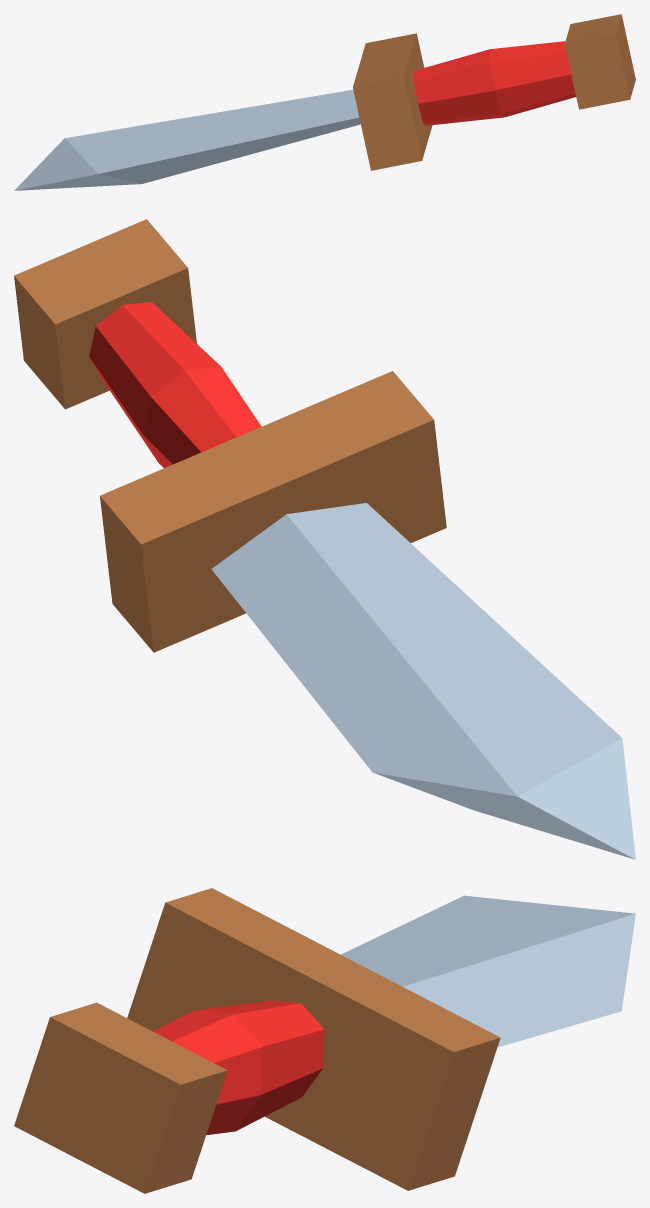
3 renders of one model, top to bottom at view 1: azimuth 30°, elevation 25°; view 2: azimuth 150°, elevation 25°; view 3: azimuth 270°, elevation 25°, orthographic. The views are drawn at different scales.
Visible parts, largest first — view 1: DJ_02; view 2: DJ_02; view 3: DJ_02.
Part boxes in pixels (bbox=[...]): DJ_02: bbox=[14, 14, 635, 190]; DJ_02: bbox=[14, 219, 635, 859]; DJ_02: bbox=[14, 888, 635, 1193].
Bounding box in the file's own units: 0.444 × 0.1461 × 0.2722.
